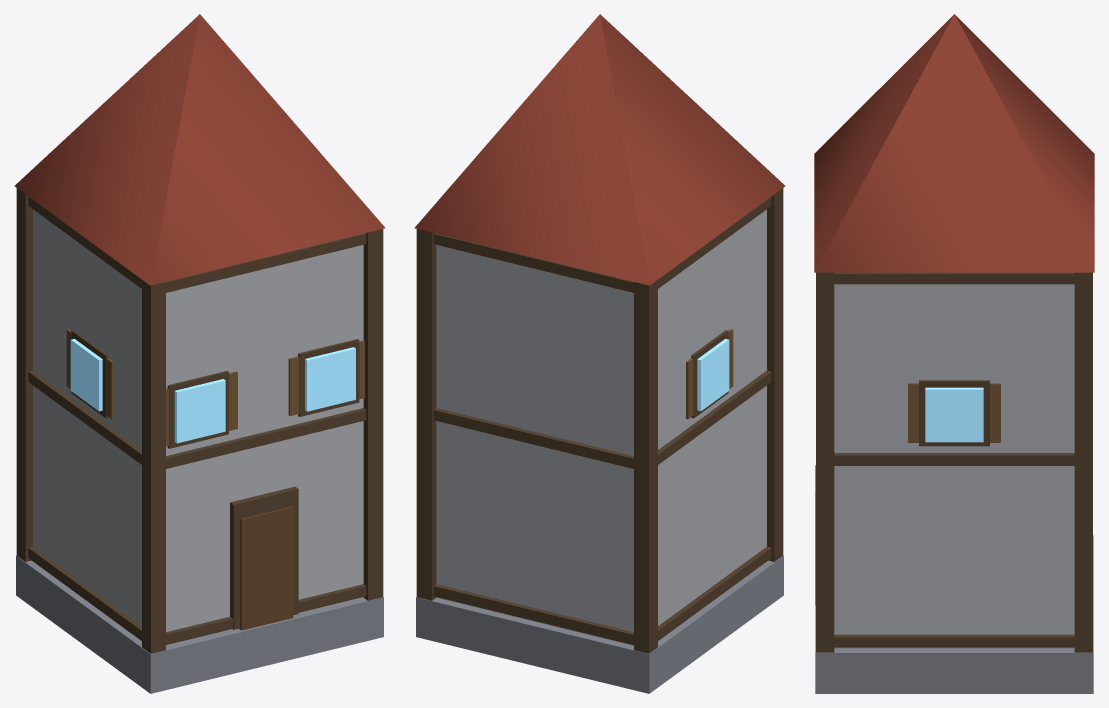
The model's file is Building_4.glb.
The picture shows the model from 3 angles, left to right: view 1: azimuth 30°, elevation 25°; view 2: azimuth 150°, elevation 25°; view 3: azimuth 270°, elevation 25°; orthographic projection. The views are drawn at different scales.
Size of the model in its own units: 4.34 by 10.6 by 4.34.
